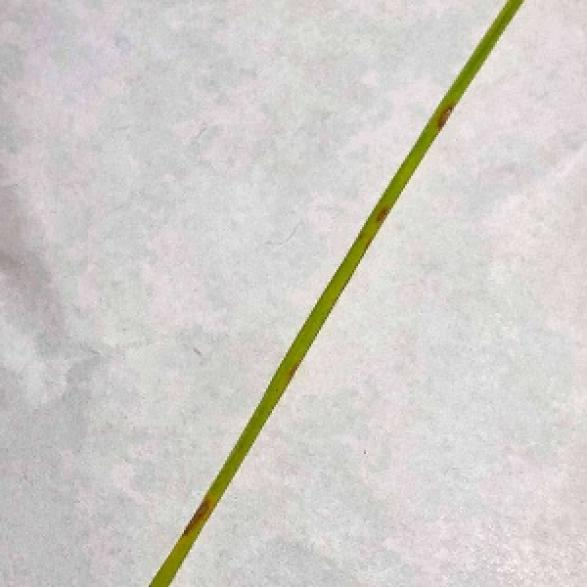Leaf_smut: (348, 88, 454, 243), (145, 478, 231, 583)
